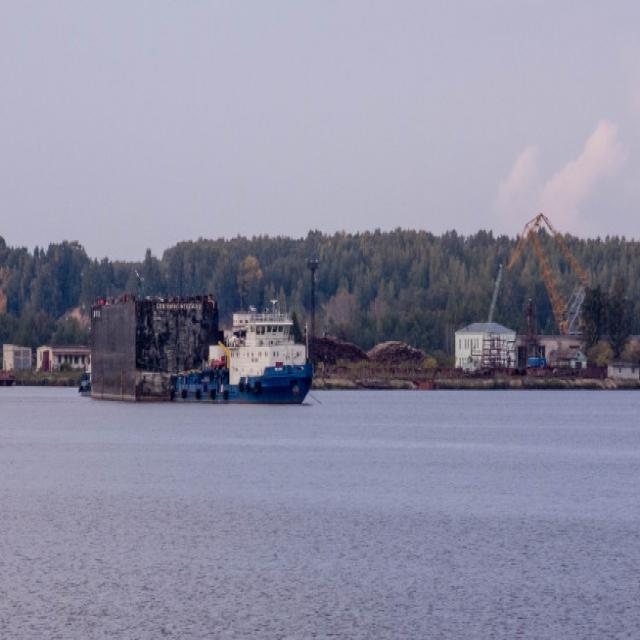tugboat: (169, 299, 317, 416)
